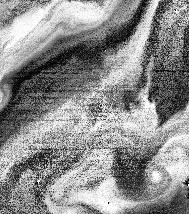CE: (144, 163, 173, 193)
